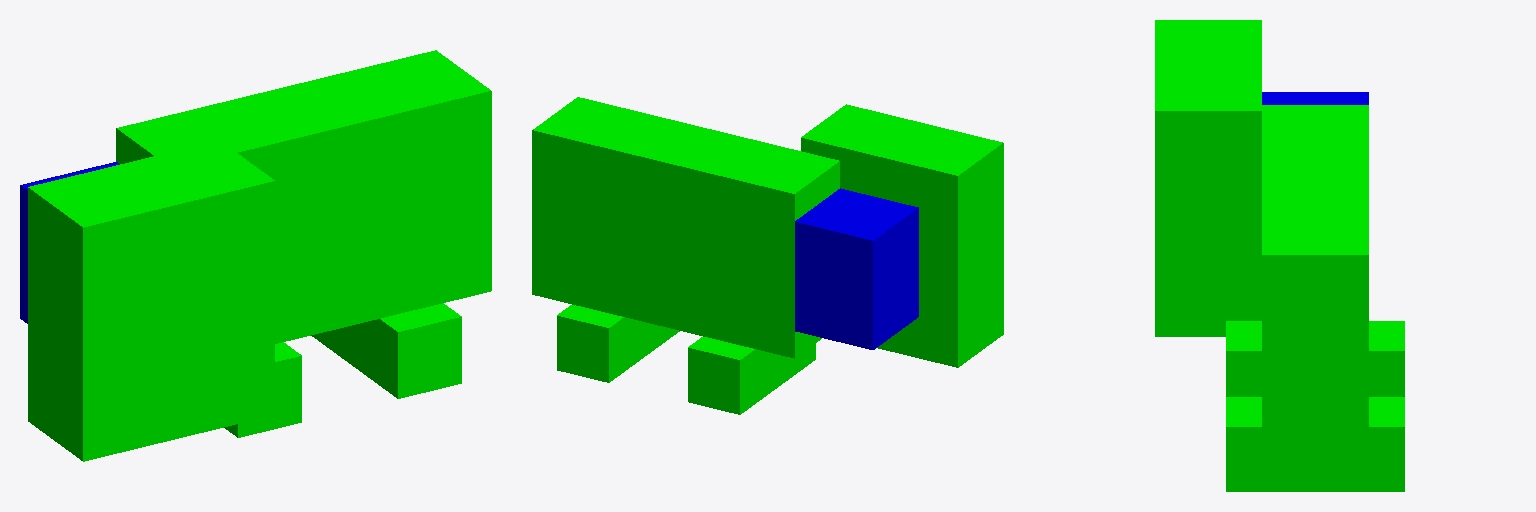
robot.urdf — robot:
<robot name = "robot">
    <link name="root">
        <inertial>
            <origin xyz="0.0 0.0 1.5" rpy="0 0 0"/>
            <mass value="1" />
            <inertia ixx="100" ixy="0" ixz="0" iyy="100" iyz="0" izz="100" />
        </inertial>
        <visual>
            <origin xyz="0.0 0.0 1.5" rpy="0 0 0"/>
            <geometry>
                <box size="0 0 0.0001" />
            </geometry>
            <material name="Green">
                <color rgba="0 1.0 0.0 1.0"/>
            </material>
        </visual>
        <collision>
            <origin xyz="0.0 0.0 1.5" rpy="0 0 0"/>
            <geometry>
                <box size="0 0 0.0001" />
            </geometry>
        </collision>
    </link>
    <joint name="root_000" type="revolute">
       <parent link="root"/>
       <child  link="000"/>
       <origin rpy="0 0 0" xyz="0.0 0.0 1.5" />
     <axis xyz="1 0 0"/>
       <limit effort="0.0" lower="-3.14159" upper="3.14159" velocity="0.0"/>
    </joint>
    <link name="000">
        <inertial>
            <origin xyz="0.0 0.0 -0.35" rpy="0 0 0"/>
            <mass value="1" />
            <inertia ixx="100" ixy="0" ixz="0" iyy="100" iyz="0" izz="100" />
        </inertial>
        <visual>
            <origin xyz="0.0 0.0 -0.35" rpy="0 0 0"/>
            <geometry>
                <box size="0.6 0.3 0.7" />
            </geometry>
            <material name="Green">
                <color rgba="0 1.0 0.0 1.0"/>
            </material>
        </visual>
        <collision>
            <origin xyz="0.0 0.0 -0.35" rpy="0 0 0"/>
            <geometry>
                <box size="0.6 0.3 0.7" />
            </geometry>
        </collision>
    </link>
    <joint name="000_000-100" type="revolute">
       <parent link="000"/>
       <child  link="000-100"/>
       <origin rpy="0 0 0" xyz="0.0 0.15 -0.35" />
     <axis xyz="0 1 0"/>
       <limit effort="0.0" lower="-3.14159" upper="3.14159" velocity="0.0"/>
    </joint>
    <link name="000-100">
        <inertial>
            <origin xyz="0.0 0.15 -0.0" rpy="0 0 0"/>
            <mass value="1" />
            <inertia ixx="100" ixy="0" ixz="0" iyy="100" iyz="0" izz="100" />
        </inertial>
        <visual>
            <origin xyz="0.0 0.15 -0.0" rpy="0 0 0"/>
            <geometry>
                <box size="0.3 0.3 0.4" />
            </geometry>
            <material name="Blue">
                <color rgba="0 0.0 1.0 1.0"/>
            </material>
        </visual>
        <collision>
            <origin xyz="0.0 0.15 -0.0" rpy="0 0 0"/>
            <geometry>
                <box size="0.3 0.3 0.4" />
            </geometry>
        </collision>
    </link>
    <joint name="000-100_000-100-200" type="revolute">
       <parent link="000-100"/>
       <child  link="000-100-200"/>
       <origin rpy="0 0 0" xyz="0.15 0.15 -0.0" />
     <axis xyz="1 0 0"/>
       <limit effort="0.0" lower="-3.14159" upper="3.14159" velocity="0.0"/>
    </joint>
    <link name="000-100-200">
        <inertial>
            <origin xyz="0.25 0.0 -0.0" rpy="0 0 0"/>
            <mass value="1" />
            <inertia ixx="100" ixy="0" ixz="0" iyy="100" iyz="0" izz="100" />
        </inertial>
        <visual>
            <origin xyz="0.25 0.0 -0.0" rpy="0 0 0"/>
            <geometry>
                <box size="0.5 0.3 0.6" />
            </geometry>
            <material name="Green">
                <color rgba="0 1.0 0.0 1.0"/>
            </material>
        </visual>
        <collision>
            <origin xyz="0.25 0.0 -0.0" rpy="0 0 0"/>
            <geometry>
                <box size="0.5 0.3 0.6" />
            </geometry>
        </collision>
    </link>
    <joint name="000-100-200_000-100-210" type="revolute">
       <parent link="000-100-200"/>
       <child  link="000-100-210"/>
       <origin rpy="0 0 0" xyz="0.5 0.0 -0.0" />
     <axis xyz="1 0 0"/>
       <limit effort="0.0" lower="-3.14159" upper="3.14159" velocity="0.0"/>
    </joint>
    <link name="000-100-210">
        <inertial>
            <origin xyz="0.25 0.0 -0.0" rpy="0 0 0"/>
            <mass value="1" />
            <inertia ixx="100" ixy="0" ixz="0" iyy="100" iyz="0" izz="100" />
        </inertial>
        <visual>
            <origin xyz="0.25 0.0 -0.0" rpy="0 0 0"/>
            <geometry>
                <box size="0.5 0.3 0.6" />
            </geometry>
            <material name="Green">
                <color rgba="0 1.0 0.0 1.0"/>
            </material>
        </visual>
        <collision>
            <origin xyz="0.25 0.0 -0.0" rpy="0 0 0"/>
            <geometry>
                <box size="0.5 0.3 0.6" />
            </geometry>
        </collision>
    </link>
    <joint name="000-100-210_000-100-210-300" type="revolute">
       <parent link="000-100-210"/>
       <child  link="000-100-210-300"/>
       <origin rpy="0 0 0" xyz="0.25 0.0 -0.3" />
     <axis xyz="0 0 1"/>
       <limit effort="0.0" lower="-3.14159" upper="3.14159" velocity="0.0"/>
    </joint>
    <link name="000-100-210-300">
        <inertial>
            <origin xyz="0.0 0.0 -0.1" rpy="0 0 0"/>
            <mass value="1" />
            <inertia ixx="100" ixy="0" ixz="0" iyy="100" iyz="0" izz="100" />
        </inertial>
        <visual>
            <origin xyz="0.0 0.0 -0.1" rpy="0 0 0"/>
            <geometry>
                <box size="0.2 0.5 0.2" />
            </geometry>
            <material name="Green">
                <color rgba="0 1.0 0.0 1.0"/>
            </material>
        </visual>
        <collision>
            <origin xyz="0.0 0.0 -0.1" rpy="0 0 0"/>
            <geometry>
                <box size="0.2 0.5 0.2" />
            </geometry>
        </collision>
    </link>
    <joint name="000-100-200_000-100-200-300" type="revolute">
       <parent link="000-100-200"/>
       <child  link="000-100-200-300"/>
       <origin rpy="0 0 0" xyz="0.25 0.0 -0.3" />
     <axis xyz="0 0 1"/>
       <limit effort="0.0" lower="-3.14159" upper="3.14159" velocity="0.0"/>
    </joint>
    <link name="000-100-200-300">
        <inertial>
            <origin xyz="0.0 0.0 -0.1" rpy="0 0 0"/>
            <mass value="1" />
            <inertia ixx="100" ixy="0" ixz="0" iyy="100" iyz="0" izz="100" />
        </inertial>
        <visual>
            <origin xyz="0.0 0.0 -0.1" rpy="0 0 0"/>
            <geometry>
                <box size="0.2 0.5 0.2" />
            </geometry>
            <material name="Green">
                <color rgba="0 1.0 0.0 1.0"/>
            </material>
        </visual>
        <collision>
            <origin xyz="0.0 0.0 -0.1" rpy="0 0 0"/>
            <geometry>
                <box size="0.2 0.5 0.2" />
            </geometry>
        </collision>
    </link>
</robot>

--- Render facts (derived) ---
3 views of the same robot in one strip: view 1: azimuth 30°, elevation 25°; view 2: azimuth 150°, elevation 25°; view 3: azimuth 270°, elevation 25° (orthographic).
Model robot with 7 links and 6 joints (6 revolute), rooted at root, posed every joint at zero.
Visible links, largest first — view 1: [phone redacted] (×4), 000, 000-100; view 2: [phone redacted] (×4), 000, 000-100; view 3: [phone redacted] (×4), 000, 000-100.
Link boxes in pixels (bbox=[...]): [phone redacted] (×4): bbox=[116, 50, 491, 437]; 000: bbox=[28, 140, 274, 461]; 000-100: bbox=[20, 162, 119, 323]; [phone redacted] (×4): bbox=[532, 97, 839, 414]; 000: bbox=[801, 104, 1003, 367]; 000-100: bbox=[795, 188, 918, 349]; [phone redacted] (×4): bbox=[1226, 105, 1404, 491]; 000: bbox=[1155, 20, 1261, 336]; 000-100: bbox=[1262, 92, 1368, 104].
Bounding box of the posed robot: 1.45 × 0.7 × 0.85 m (x, y, z).
Geometry: primitives only (box / cylinder / sphere), no mesh files.
